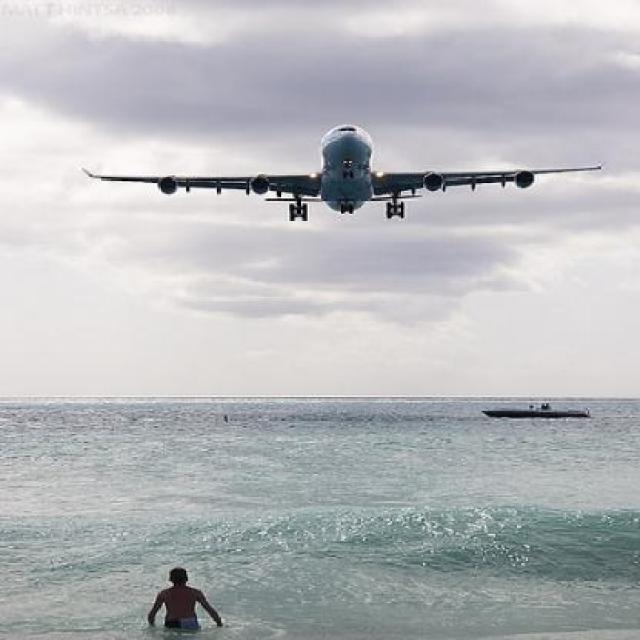ship: (475, 394, 594, 423)
